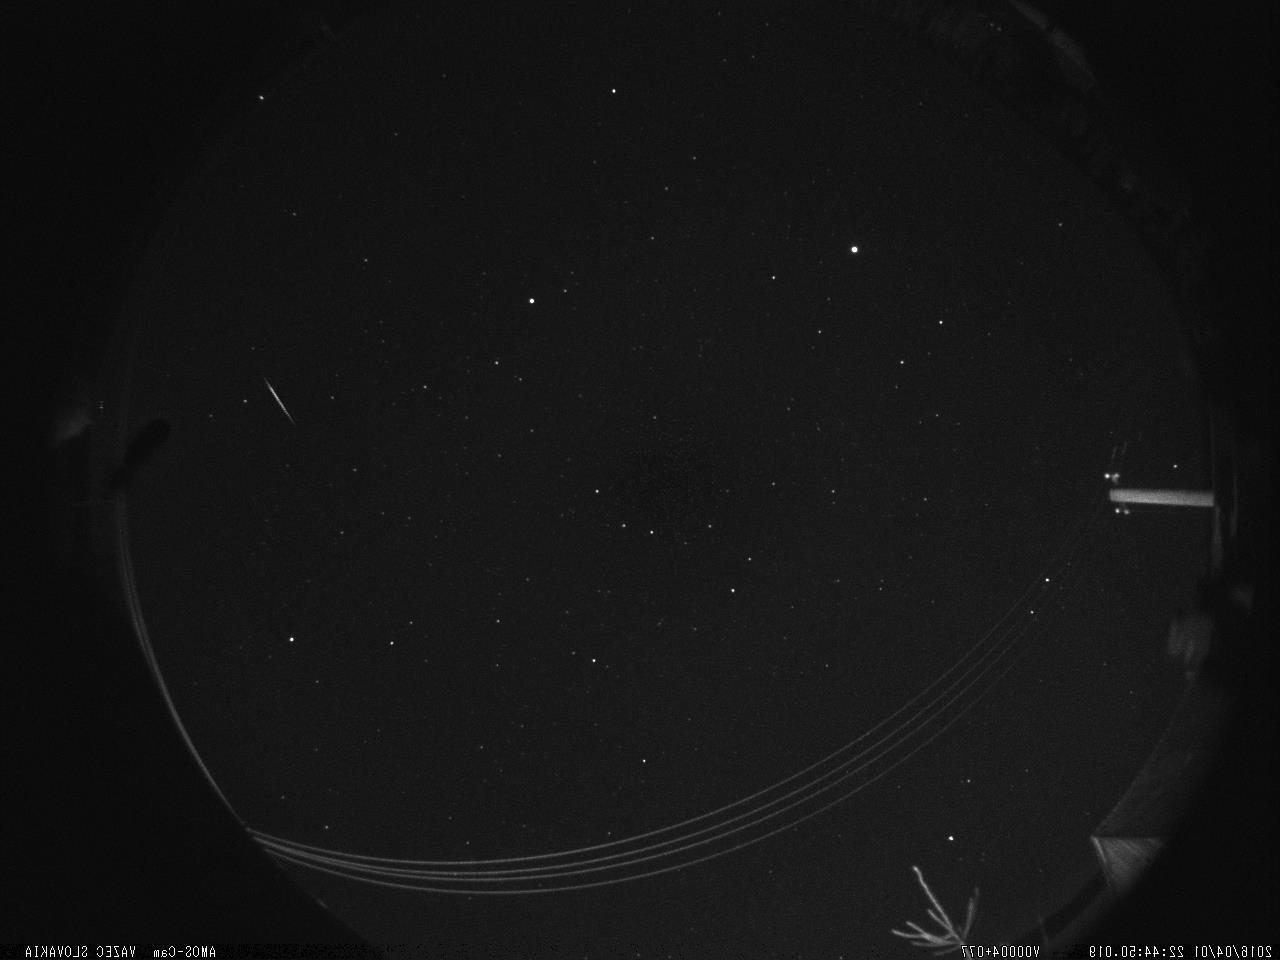meteor: (257, 364, 296, 429)
